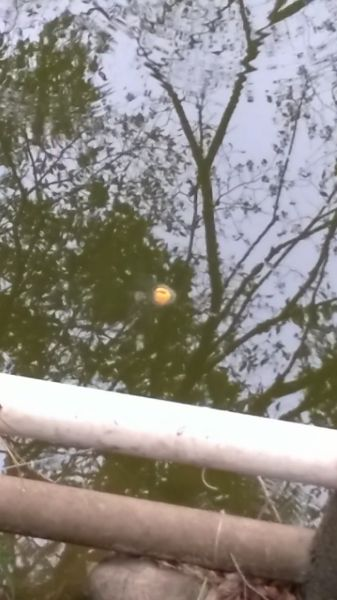eggs: (145, 282, 177, 307)
